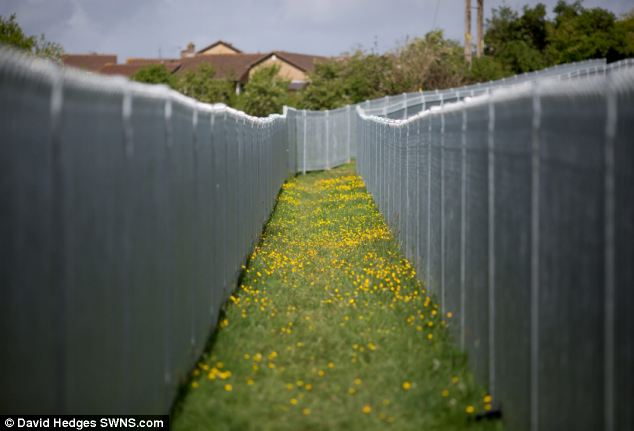Fence: (13, 59, 270, 423), (356, 111, 634, 431)
